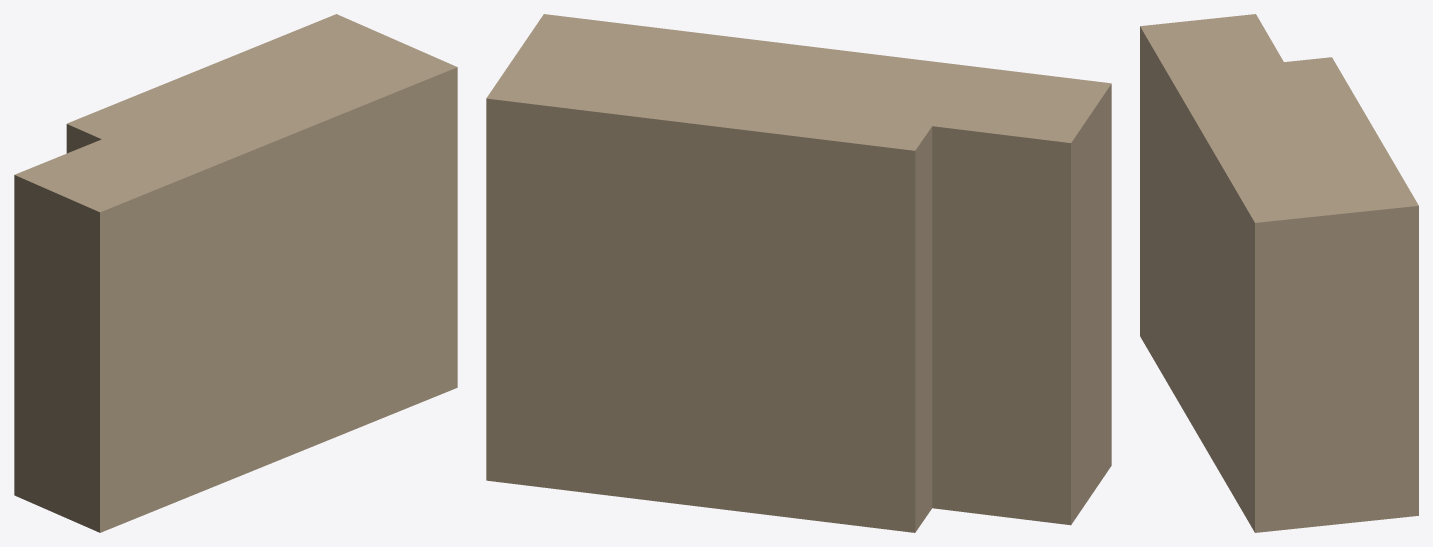
File: bld_109034717.dae
3 views of the same model, side by side, from view 1: azimuth 30°, elevation 25°; view 2: azimuth 150°, elevation 25°; view 3: azimuth 270°, elevation 25° (orthographic). The views are drawn at different scales.
Parts seen in each view (by area): view 1: bld_109034717; view 2: bld_109034717; view 3: bld_109034717.
Part boxes in pixels (x1,y1,x2,y2): bld_109034717: (14, 14, 457, 532); bld_109034717: (486, 14, 1111, 532); bld_109034717: (1140, 14, 1418, 532).
Bounding box in the file's own units: 11.56 × 6.52 × 8.
